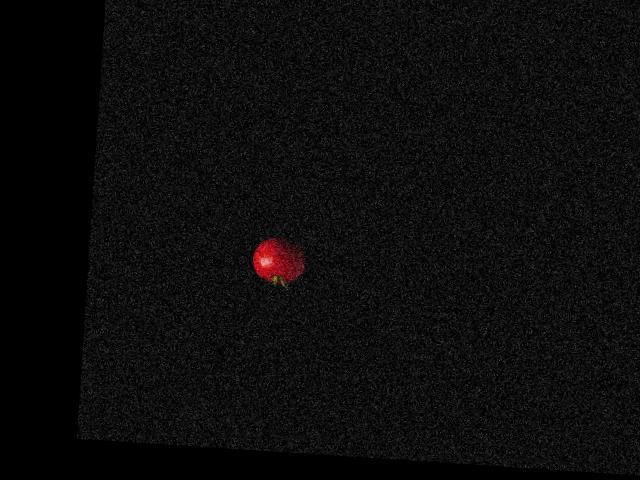tomato: (252, 237, 307, 284)
